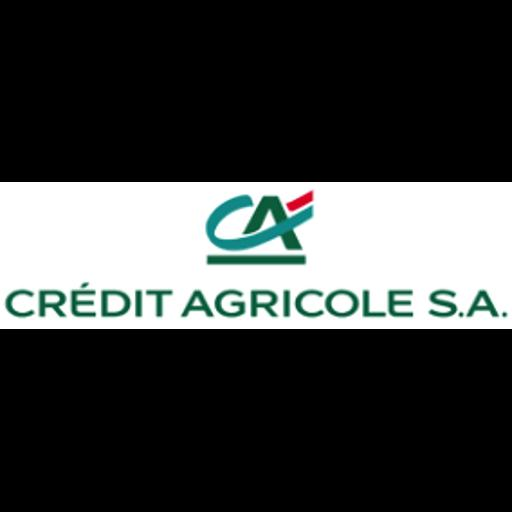Credit Agricole S-A: (0, 182, 512, 329)
